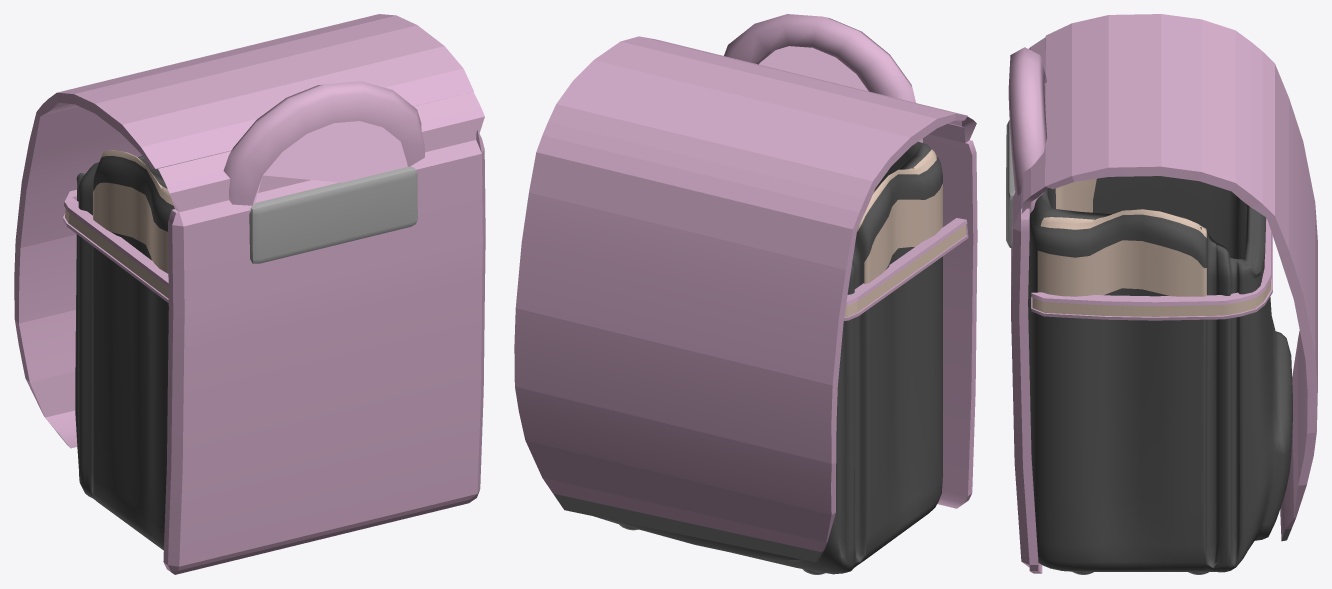
Rendered from backpack.fbx.
3 views of the same model, side by side, from view 1: azimuth 30°, elevation 25°; view 2: azimuth 150°, elevation 25°; view 3: azimuth 270°, elevation 25° (orthographic). The views are drawn at different scales.
Visible parts, largest first — view 1: pCylinder19; view 2: pCylinder19; view 3: pCylinder19.
Boxes of the visible parts, x1,y1,x2,y2 form: pCylinder19: (14, 14, 485, 574); pCylinder19: (514, 14, 977, 574); pCylinder19: (1006, 14, 1317, 574).
Size of the model in its own units: 2.37 by 3.29 by 2.01.
